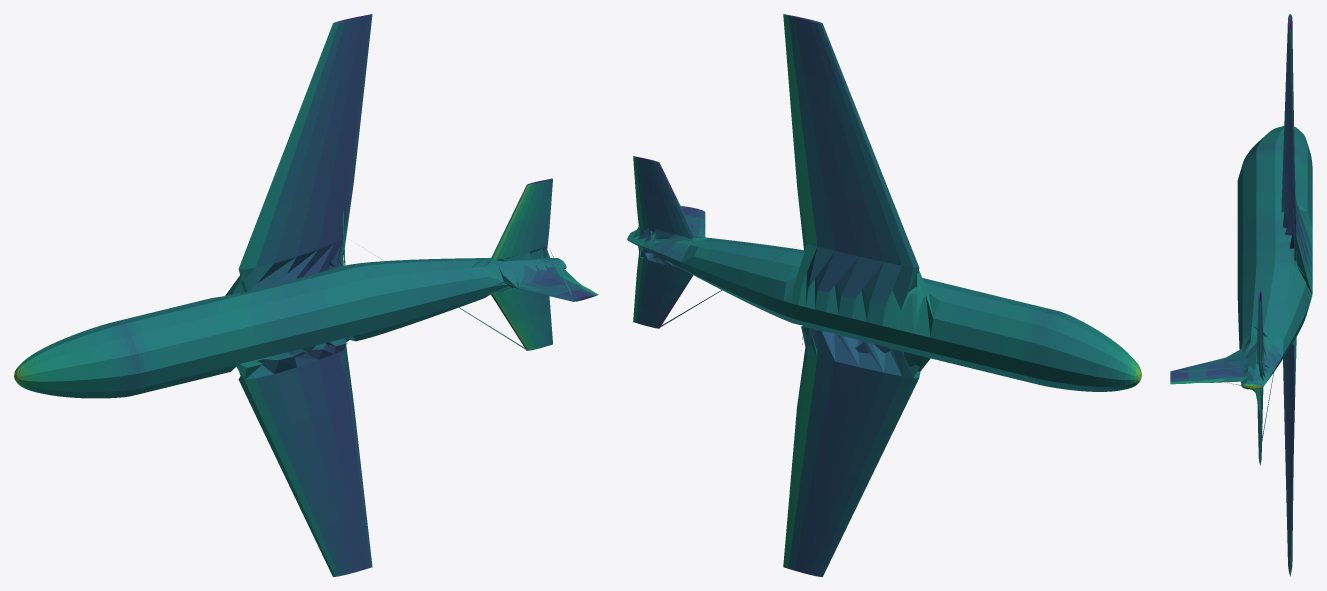
File: neg1.glb
3 renders of one model, left to right at view 1: azimuth 30°, elevation 25°; view 2: azimuth 150°, elevation 25°; view 3: azimuth 270°, elevation 25°, orthographic.
Visible parts, largest first — view 1: Shape_IndexedFaceSet; view 2: Shape_IndexedFaceSet; view 3: Shape_IndexedFaceSet.
Boxes of the visible parts, box(x1,y1,x2,y2) form: Shape_IndexedFaceSet: box(14, 14, 598, 576); Shape_IndexedFaceSet: box(627, 14, 1141, 576); Shape_IndexedFaceSet: box(1170, 14, 1312, 576).
Size of the model in its own units: 40 by 40 by 9.5.
